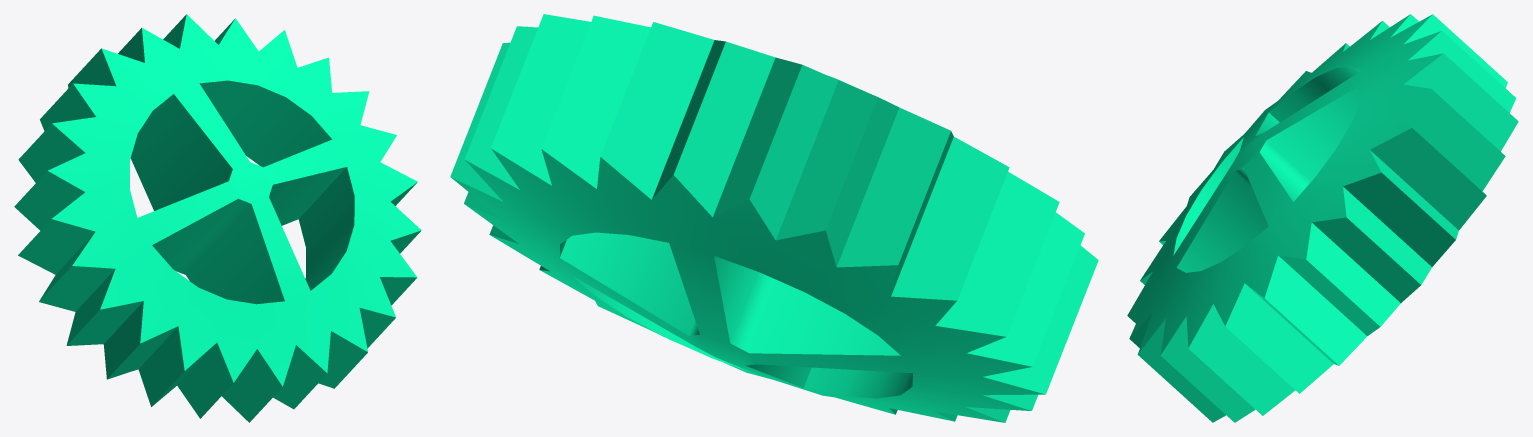
The picture shows the model from 3 angles, left to right: view 1: azimuth 30°, elevation 25°; view 2: azimuth 150°, elevation 25°; view 3: azimuth 270°, elevation 25°; orthographic projection. The views are drawn at different scales.
Visible parts, largest first — view 1: Joint_0_Object_0; view 2: Joint_0_Object_0; view 3: Joint_0_Object_0.
Boxes of the visible parts, bbox=[...] form: Joint_0_Object_0: bbox=[14, 14, 421, 422]; Joint_0_Object_0: bbox=[450, 14, 1098, 422]; Joint_0_Object_0: bbox=[1127, 14, 1518, 422].
Size of the model in its own units: 237 by 207 by 207.
